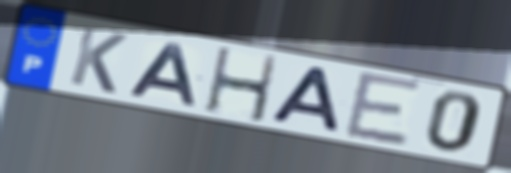0: (422, 89, 485, 156)
A: (266, 64, 343, 135), (125, 42, 201, 109)
E: (342, 68, 425, 149)
H: (203, 45, 281, 126)
K: (65, 23, 130, 97)
